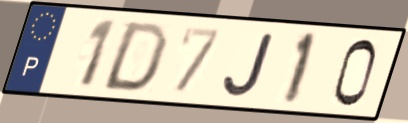0: (332, 37, 377, 109)
1: (73, 17, 120, 90), (279, 29, 319, 107)
7: (173, 25, 223, 96)
D: (97, 19, 172, 94)
J: (221, 30, 279, 100)
